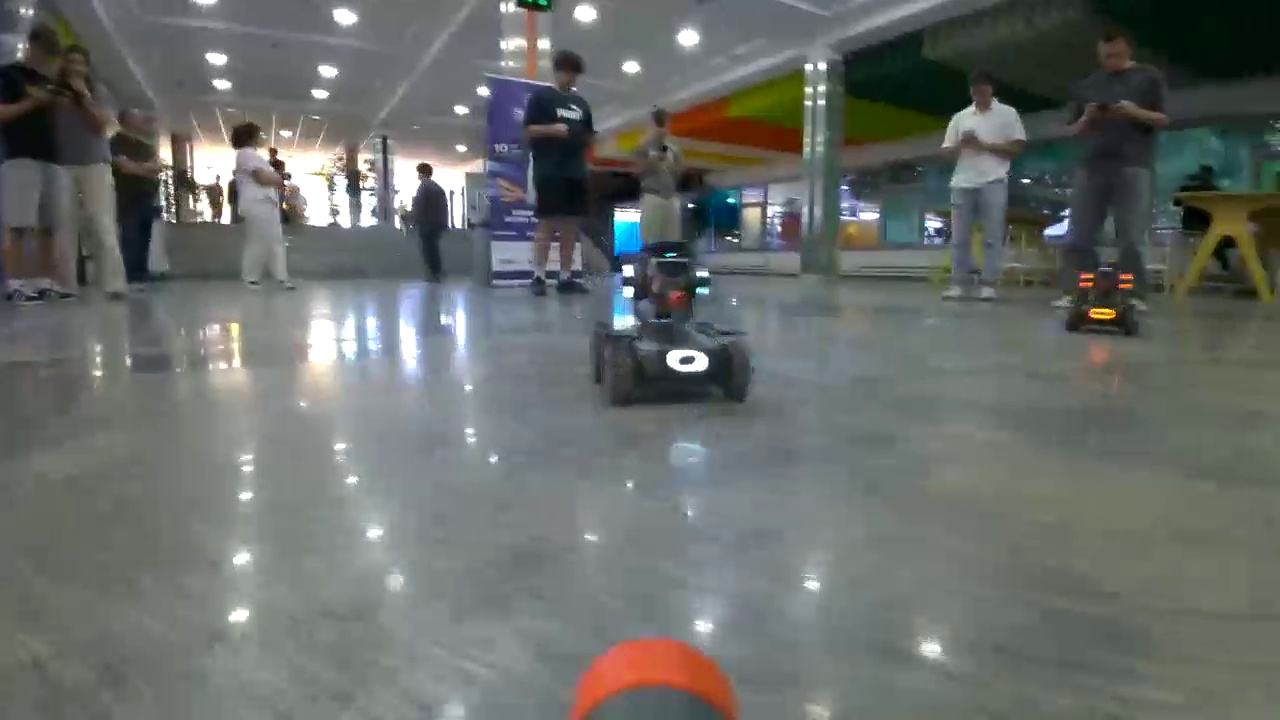robot: (597, 252, 751, 404), (1065, 265, 1140, 332)
